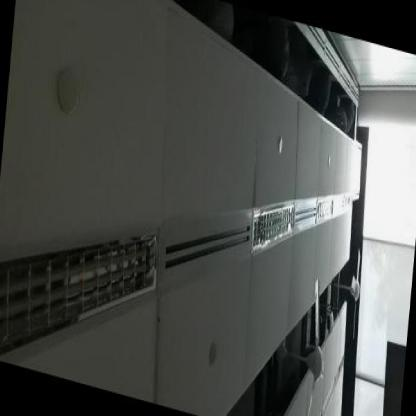light_off: (0, 173, 165, 402), (234, 163, 304, 278)
